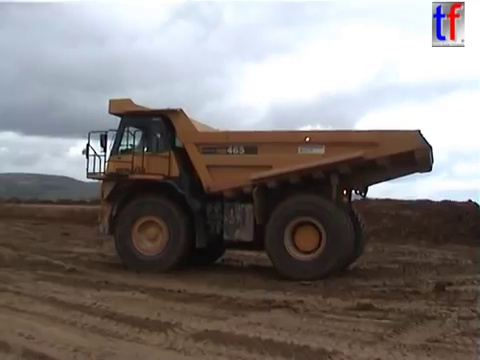truck: (79, 96, 436, 282)
